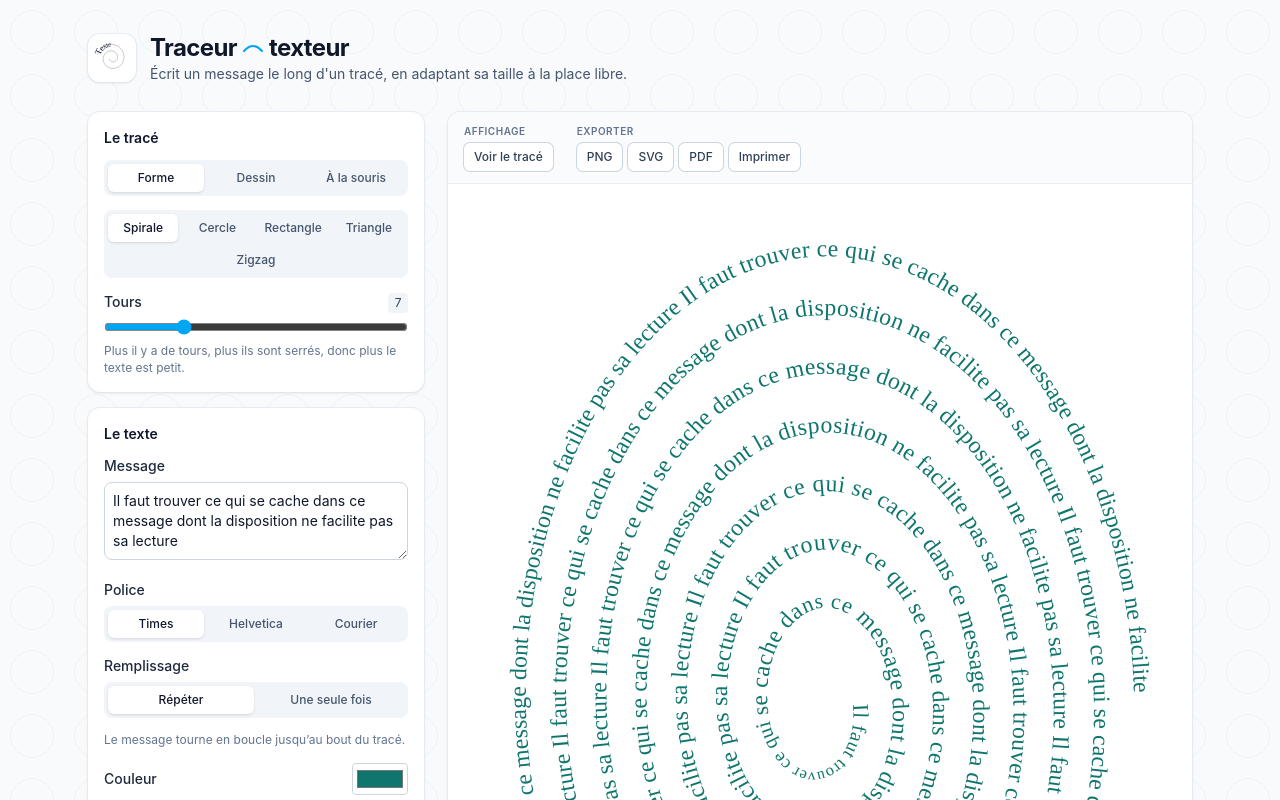
Test: App › demande un dessin quand la source est une image, et ne rend rien avant
Click the button "Dessin": (256, 178) [208, 164, 304, 192]
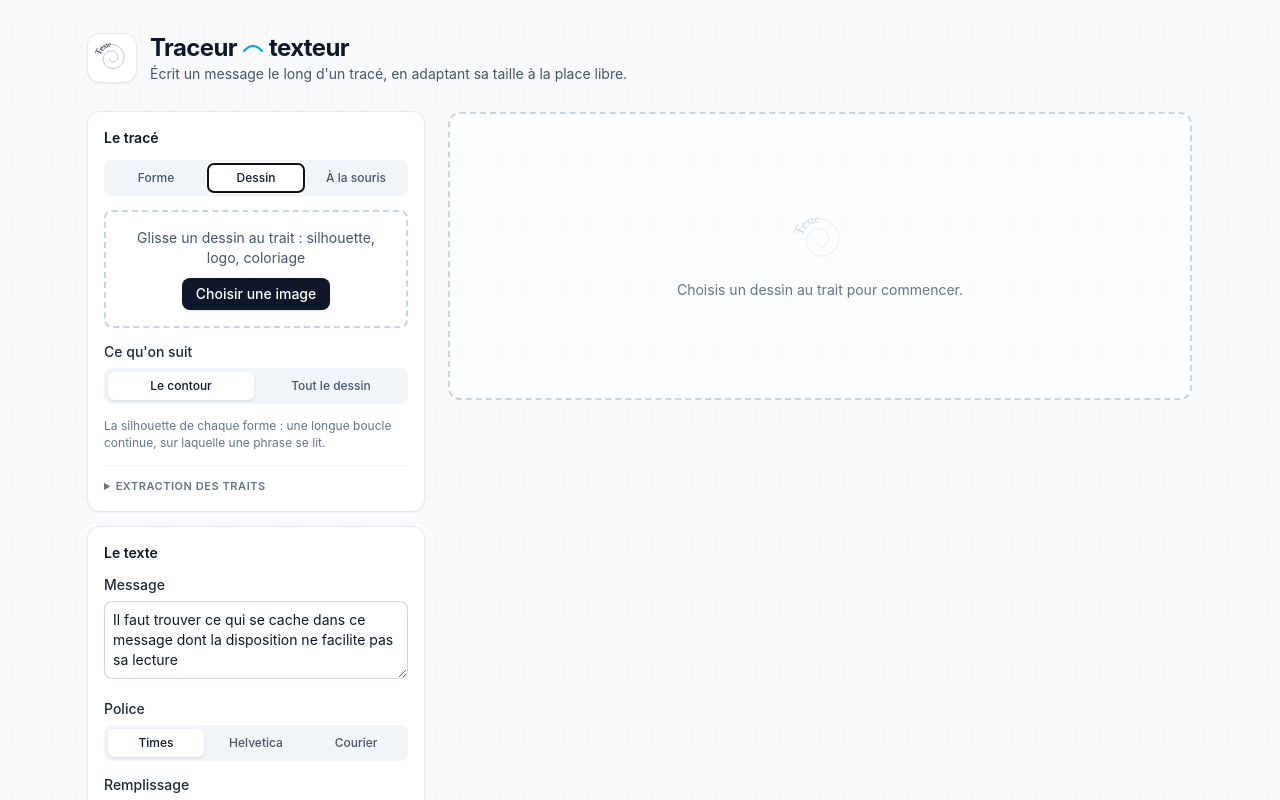
Now the element labelled "Choisir une image" is shown, box [104, 210, 408, 328]
Now the text "Choisis un dessin au trait pour commencer." is shown, box [677, 280, 963, 300]
